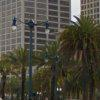Palm tree: (53, 17, 100, 94)
